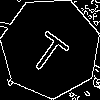T: (25, 23, 76, 77)
